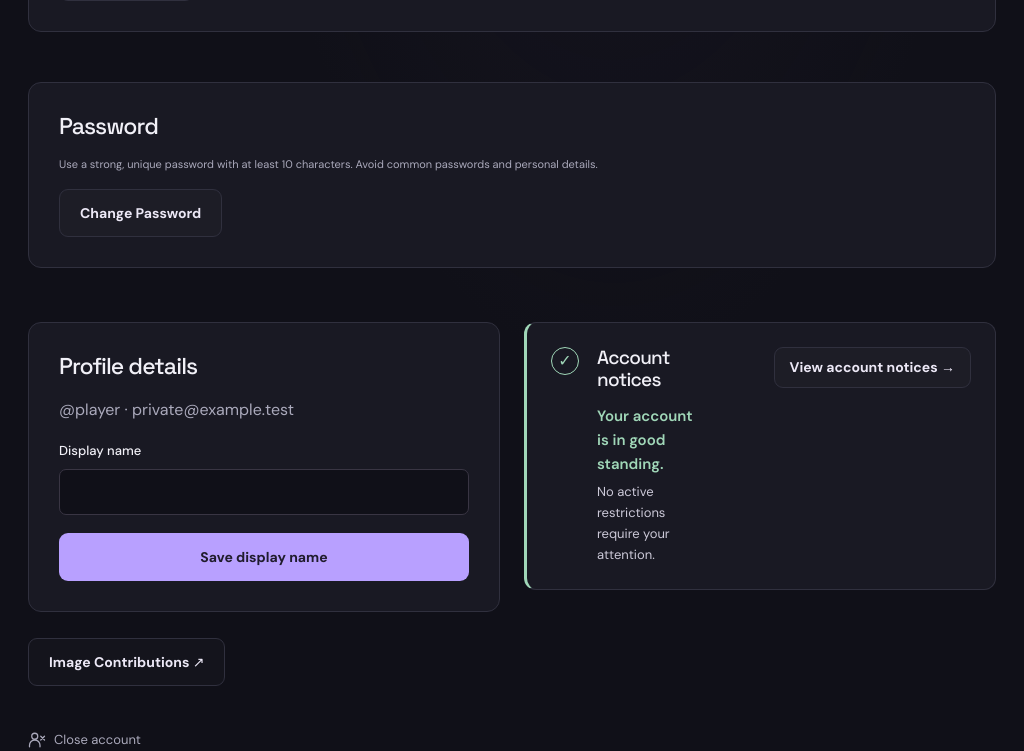
has a compact good-standing settings card and one working notices link
(page scrolled)
Expected: the element named "Account notices summary" shows "No active restrictions require your attention.", [597,483,670,563]
Click the link "View account notices →" at (872, 368), box [774,347,971,388]
(page scrolled)
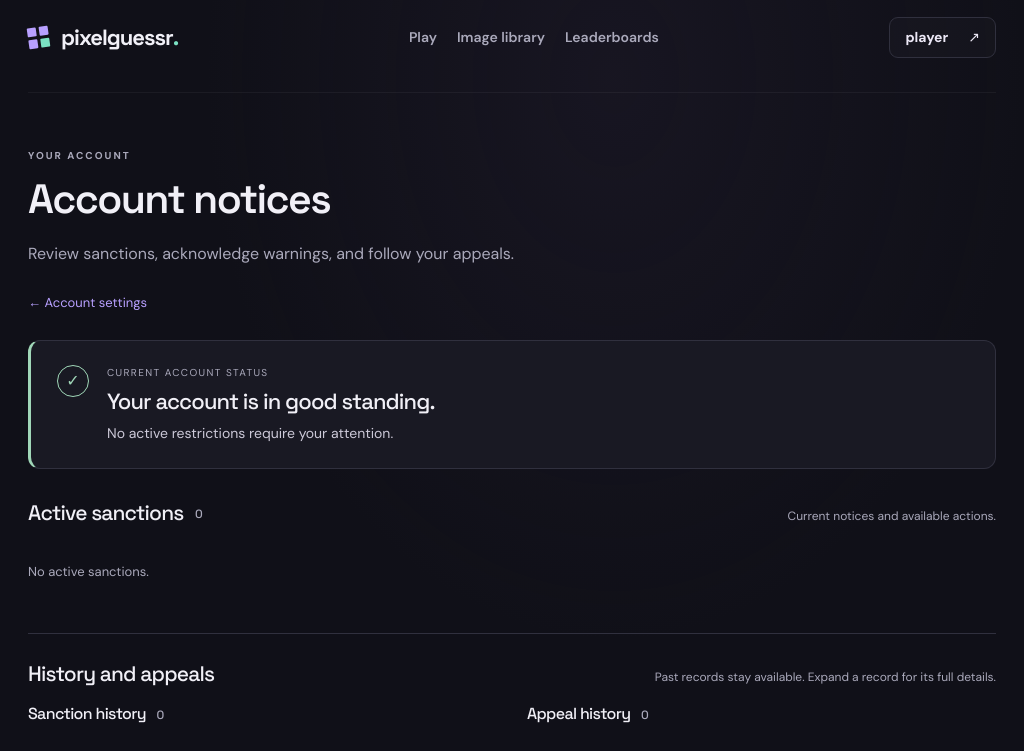
Expected: the heading "Account notices" is shown, [28,173,330,225]
Expected: the text "No active sanctions." is shown, [28,563,149,580]
